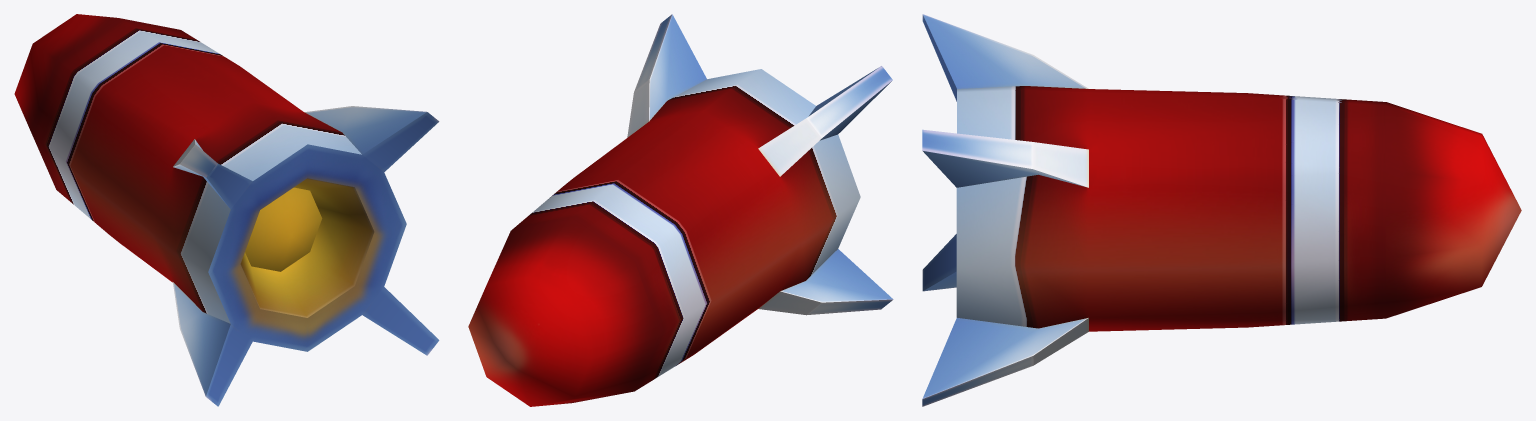
File: BulletLv_6.fbx
3 renders of one model, left to right at view 1: azimuth 30°, elevation 25°; view 2: azimuth 150°, elevation 25°; view 3: azimuth 270°, elevation 25°, orthographic. The views are drawn at different scales.
Parts seen in each view (by area): view 1: missile_01; view 2: missile_01; view 3: missile_01.
Part boxes in pixels (x1,y1,x2,y2): missile_01: (14,14,439,406); missile_01: (468,14,893,406); missile_01: (922,14,1521,406).
Bounding box in the file's own units: 23.29 × 23.29 × 45.59.
